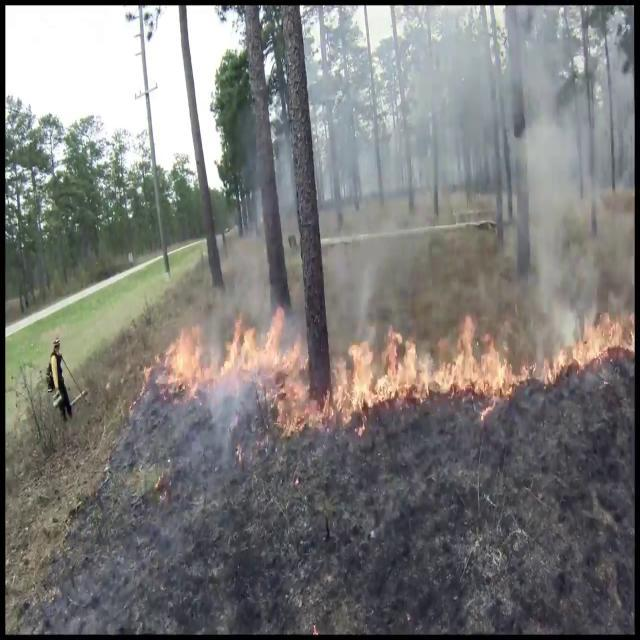Fire: (155, 304, 580, 434), (342, 308, 570, 404), (151, 301, 307, 400)
Smoke: (230, 5, 632, 308)
